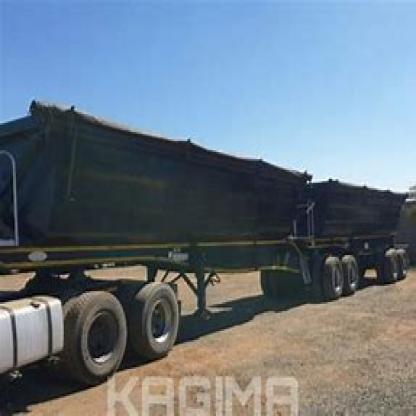dump_truck: (1, 90, 414, 372)
